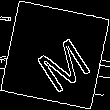M_NW: (22, 21, 88, 89)
